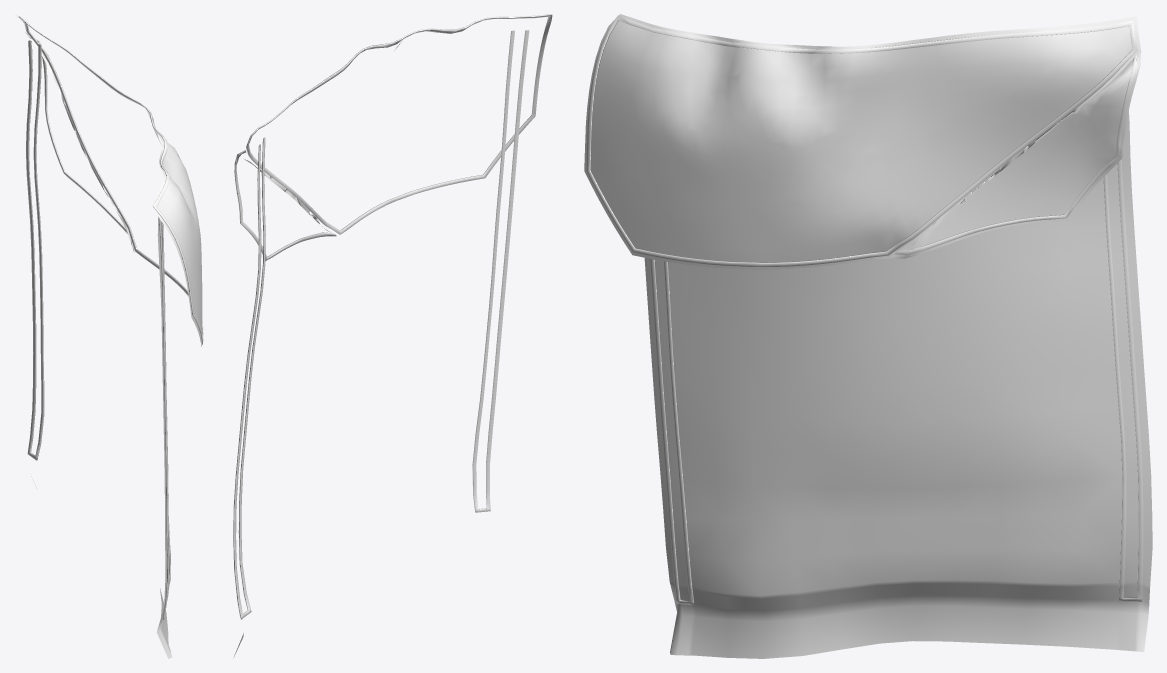
The model's file is Pants_Pocket_RIGHT_V2.glb.
3 renders of one model, left to right at view 1: azimuth 30°, elevation 25°; view 2: azimuth 150°, elevation 25°; view 3: azimuth 270°, elevation 25°, orthographic. The views are drawn at different scales.
Visible parts, largest first — view 1: Pants_Main3_2.001, Pants_Main2.001; view 2: Pants_Main3_2.001; view 3: Pants_Main2.001, Pants_Main3_2.001.
Part boxes in pixels (left/top/right/bottom): Pants_Main3_2.001: left=19, top=16, right=203, bottom=619; Pants_Main2.001: left=16, top=15, right=202, bottom=658; Pants_Main3_2.001: left=233, top=14, right=552, bottom=619; Pants_Main2.001: left=584, top=14, right=1152, bottom=658; Pants_Main3_2.001: left=586, top=15, right=1143, bottom=605.
Bounding box in the file's own units: 0.0559 × 0.2783 × 0.2195.
2 materials, 2 textured.
